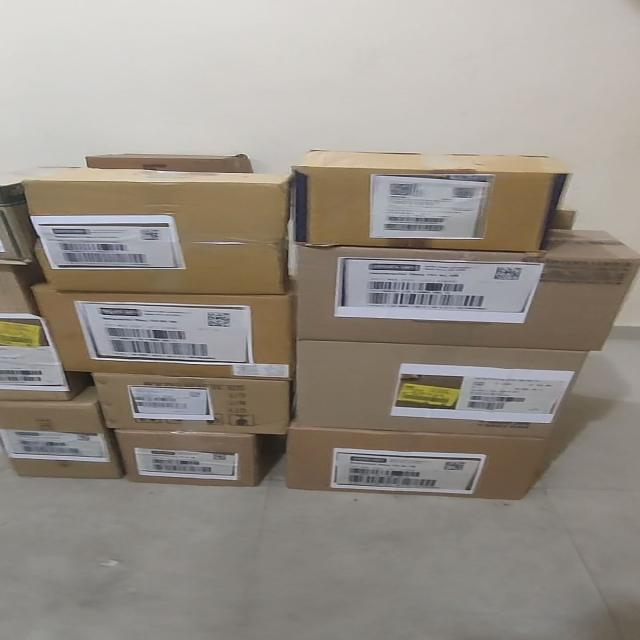BoxFace: (290, 228, 637, 350), (20, 151, 292, 295), (292, 336, 591, 445), (291, 161, 573, 252), (29, 282, 294, 378), (282, 419, 554, 501), (90, 371, 292, 435), (1, 386, 123, 480), (119, 428, 268, 487)
